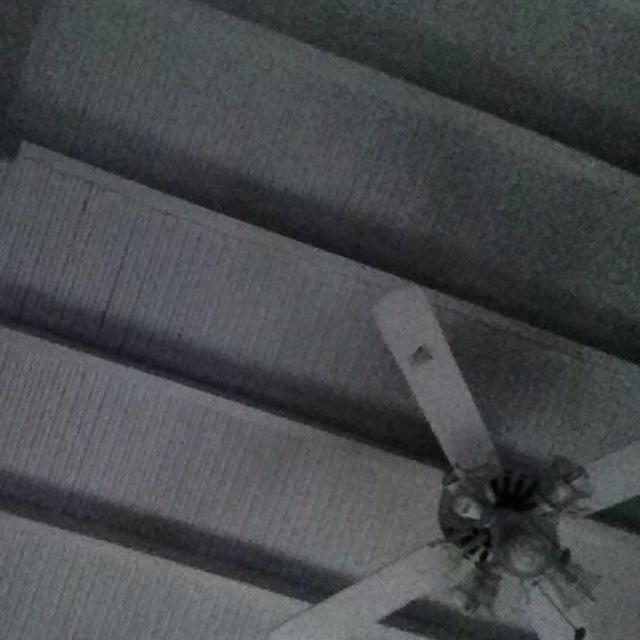fan_off: (271, 283, 640, 640)
